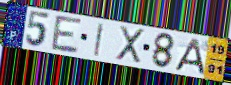5: (25, 10, 53, 48)
8: (150, 31, 176, 70)
A: (173, 37, 207, 76)
E: (50, 14, 84, 56)
I: (92, 21, 106, 58)
X: (115, 24, 146, 65)
